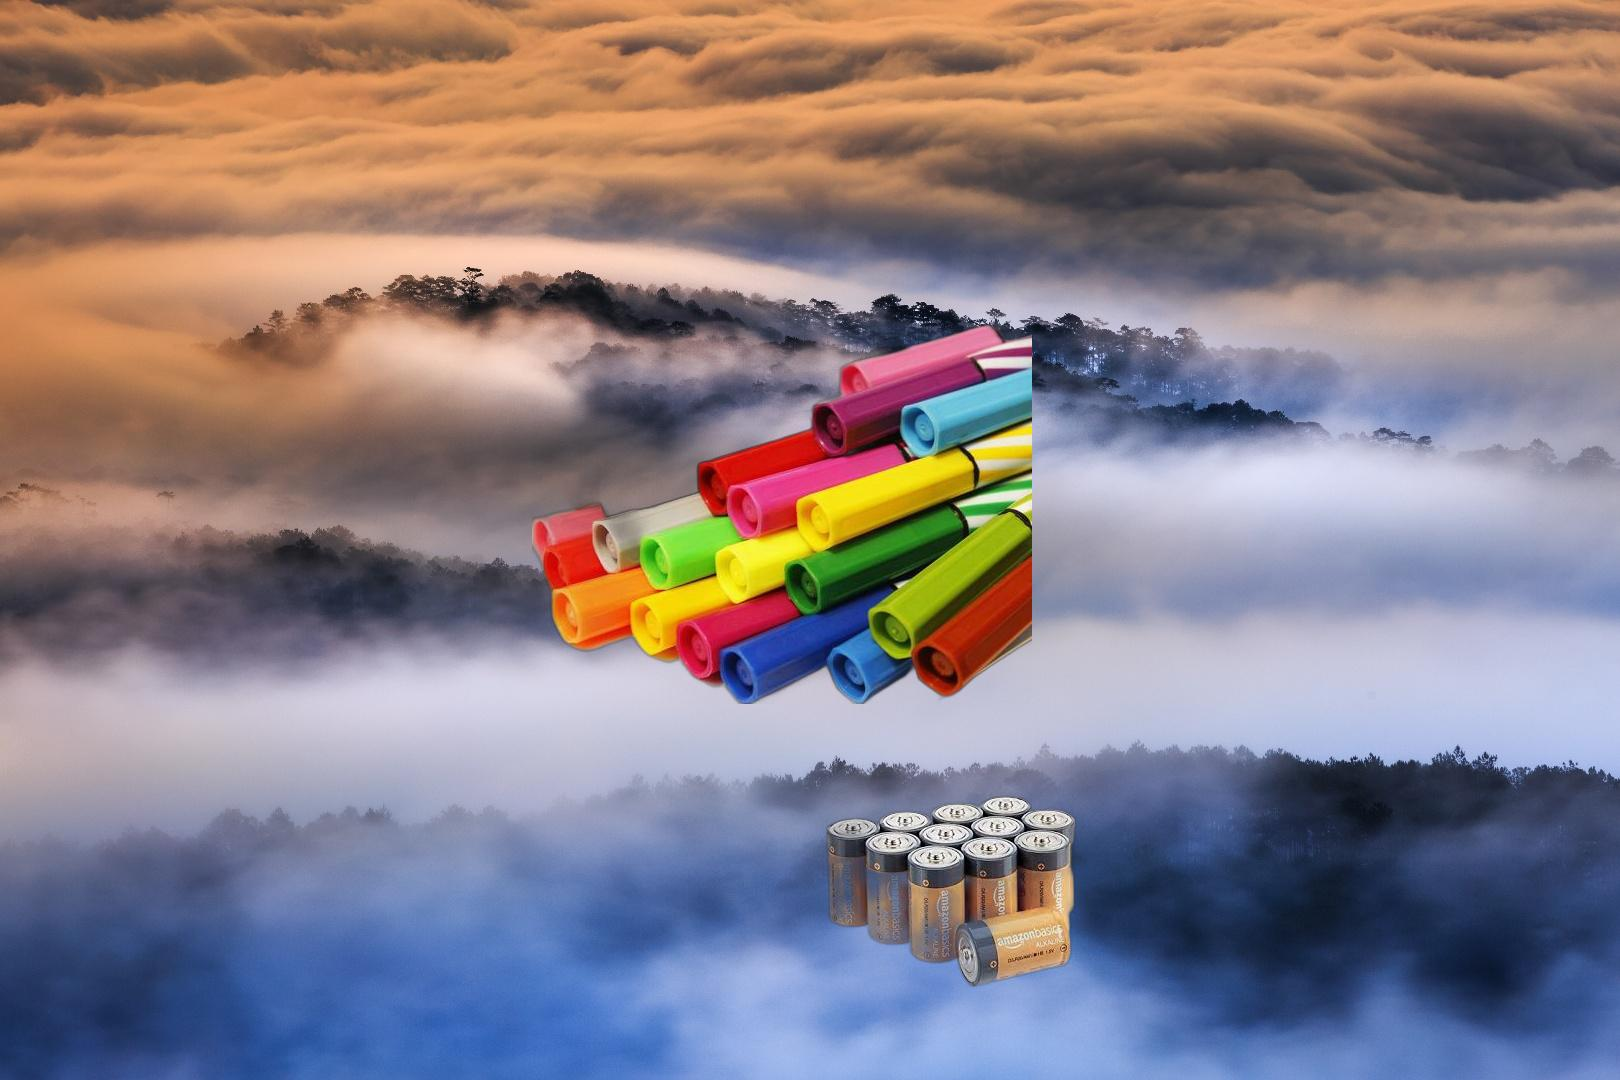battery: (824, 794, 1080, 991)
penholder: (532, 319, 1032, 704)
